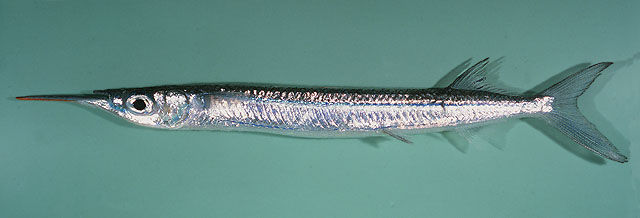fish: (15, 56, 628, 164)
